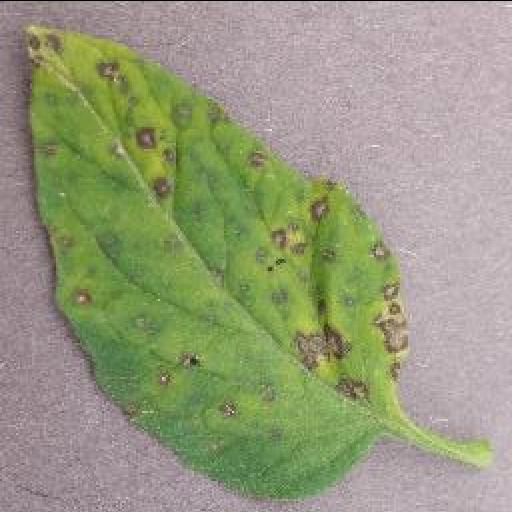disease_tomato: (26, 21, 416, 501)
